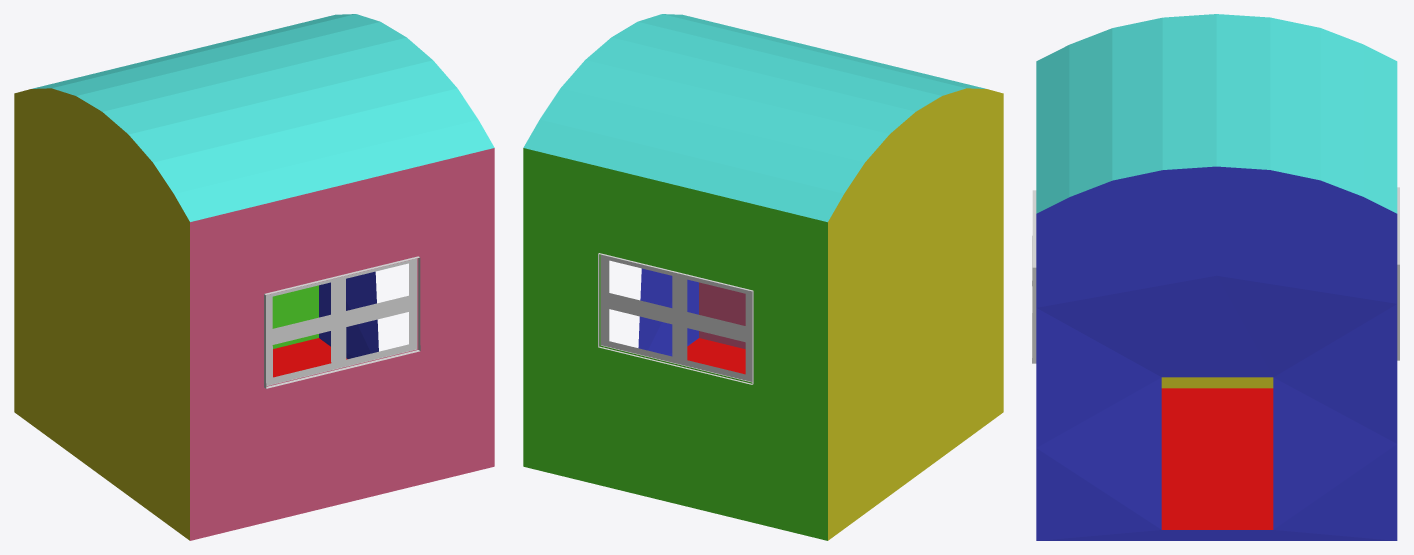
File: talo.fbx
3 renders of one model, left to right at view 1: azimuth 30°, elevation 25°; view 2: azimuth 150°, elevation 25°; view 3: azimuth 270°, elevation 25°, orthographic. The views are drawn at different scales.
Parts seen in each view (by area): view 1: Cube, Cube.002; view 2: Cube, Cube.001; view 3: Cube, Cube.002, Cube.001.
Part boxes in pixels (<box>): Cube: <box>14,14,494,540</box>; Cube.002: <box>264,256,420,388</box>; Cube: <box>523,14,1003,540</box>; Cube.001: <box>598,253,753,384</box>; Cube: <box>1036,14,1397,540</box>; Cube.002: <box>1032,190,1036,363</box>; Cube.001: <box>1397,187,1399,360</box>.
Size of the model in its own units: 1503 by 1718 by 1529.
